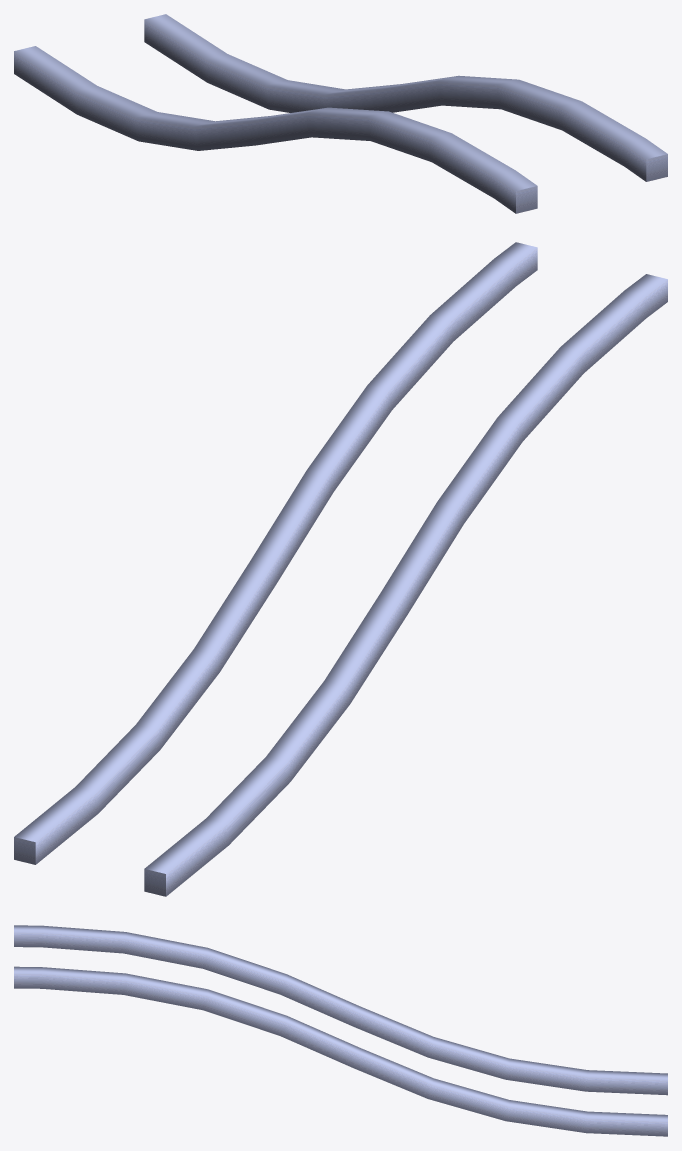
Rendered from railroad-rail-straight-hill-complete.glb.
The picture shows the model from 3 angles, top to bottom: view 1: azimuth 30°, elevation 25°; view 2: azimuth 150°, elevation 25°; view 3: azimuth 270°, elevation 25°; orthographic projection. The views are drawn at different scales.
Parts seen in each view (by area): view 1: railroad-rail-straight-hill-complete; view 2: railroad-rail-straight-hill-complete; view 3: railroad-rail-straight-hill-complete.
Boxes of the visible parts, left/top/right/bottom form: railroad-rail-straight-hill-complete: left=14, top=14, right=667, bottom=213; railroad-rail-straight-hill-complete: left=14, top=242, right=667, bottom=896; railroad-rail-straight-hill-complete: left=14, top=925, right=667, bottom=1136.
Size of the model in its own units: 0.6997 by 1.1 by 4.
1 material, 1 textured.
